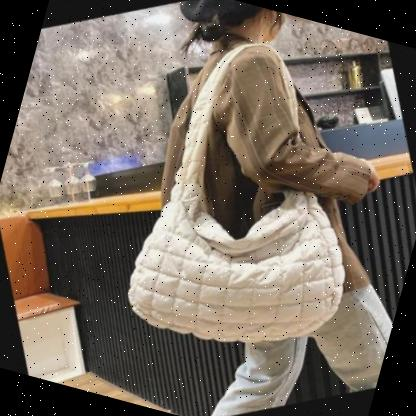bag: (116, 25, 396, 375)
